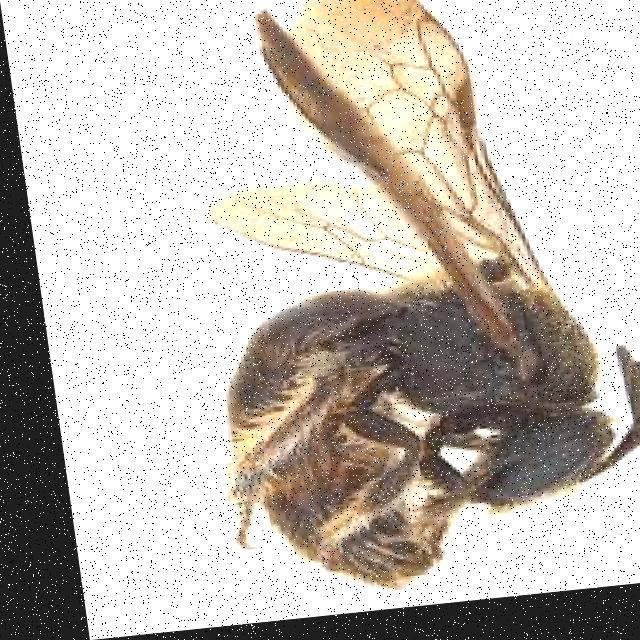Braunsapis: (105, 0, 640, 612)
